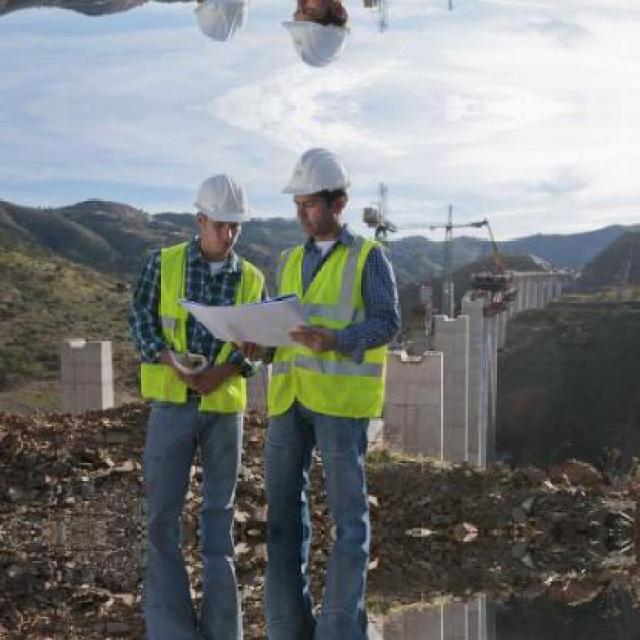helmet: (284, 142, 358, 242), (192, 168, 251, 260), (285, 0, 360, 71), (192, 0, 252, 45)
